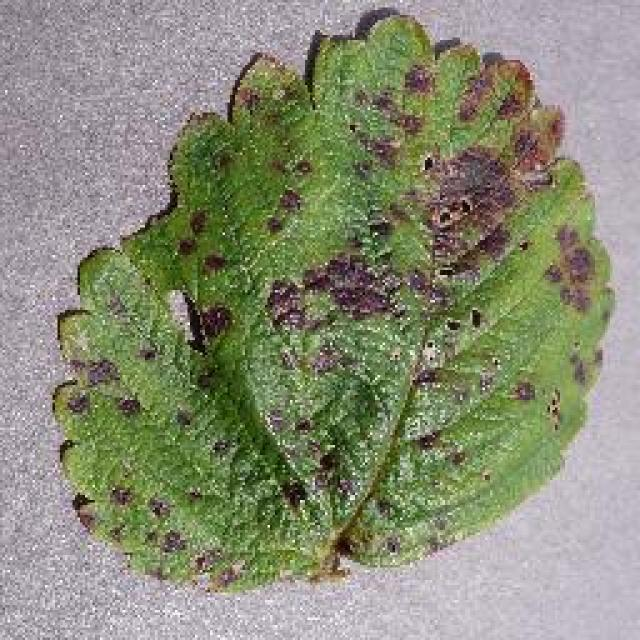Strawberry leaf scorch: (177, 55, 553, 560)
